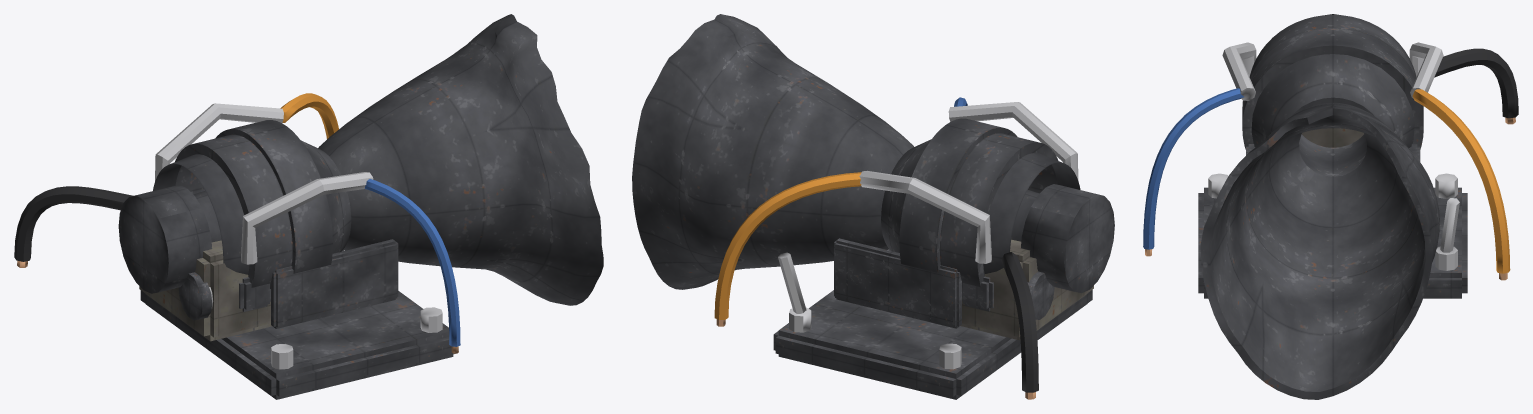
Rendered from capsule_rcs_thruster_lod1.glb.
3 renders of one model, left to right at view 1: azimuth 30°, elevation 25°; view 2: azimuth 150°, elevation 25°; view 3: azimuth 270°, elevation 25°, orthographic.
Parts seen in each view (by area): view 1: capsule_rcs_thruster; view 2: capsule_rcs_thruster; view 3: capsule_rcs_thruster.
Part boxes in pixels (box(x1,y1,x2,y2)): capsule_rcs_thruster: box(14, 14, 603, 399); capsule_rcs_thruster: box(632, 14, 1114, 399); capsule_rcs_thruster: box(1143, 14, 1518, 399).
Bounding box in the file's own units: 0.7117 × 0.4307 × 0.5298.
Materials: 7 (2 with a texture image).
